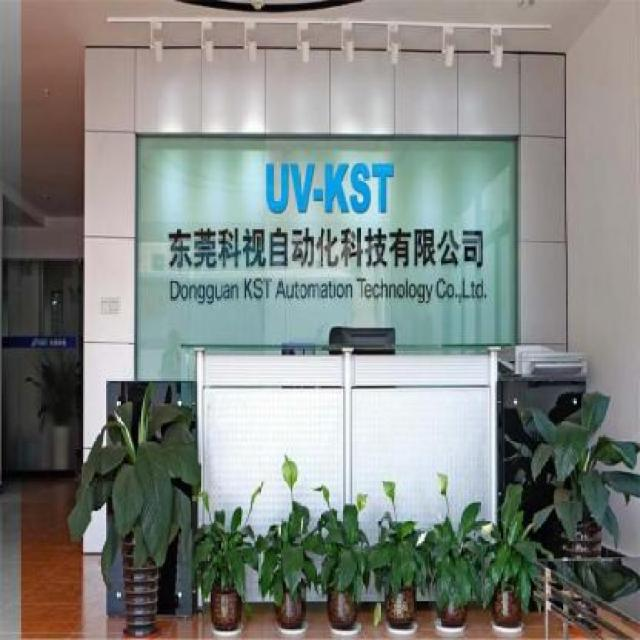frontdesk: (99, 329, 606, 600)
